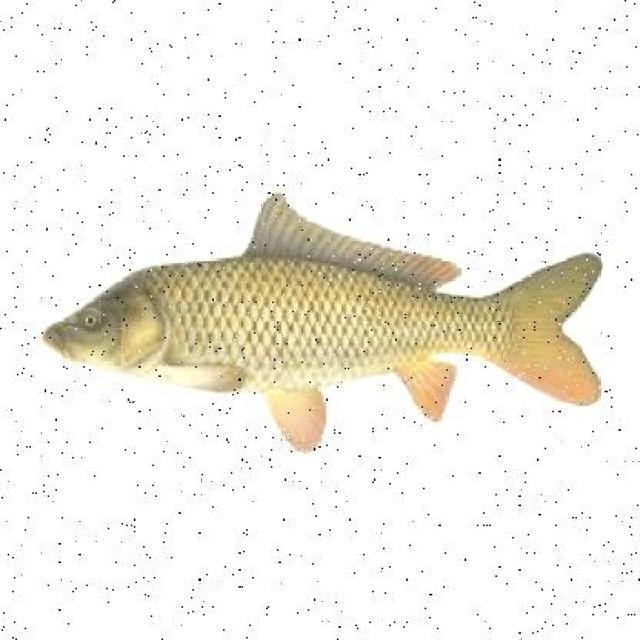ikan-pacu: (37, 230, 606, 424)
